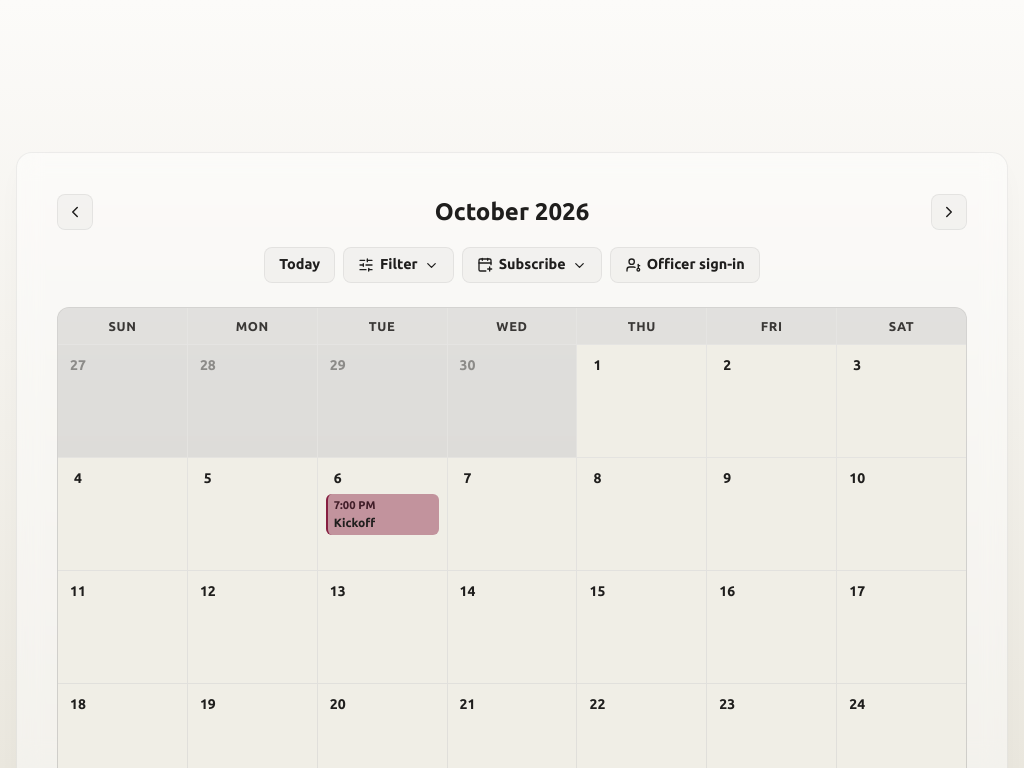
Test case: Calendar page › omits the repeat line for a one-off event
This screenshot has width=1024, height=768.
What coordinates should you click on to do the following:
click the button "7:00 PM Kickoff"
I would click on:
 (382, 515)
Its box is [326,494,439,535].
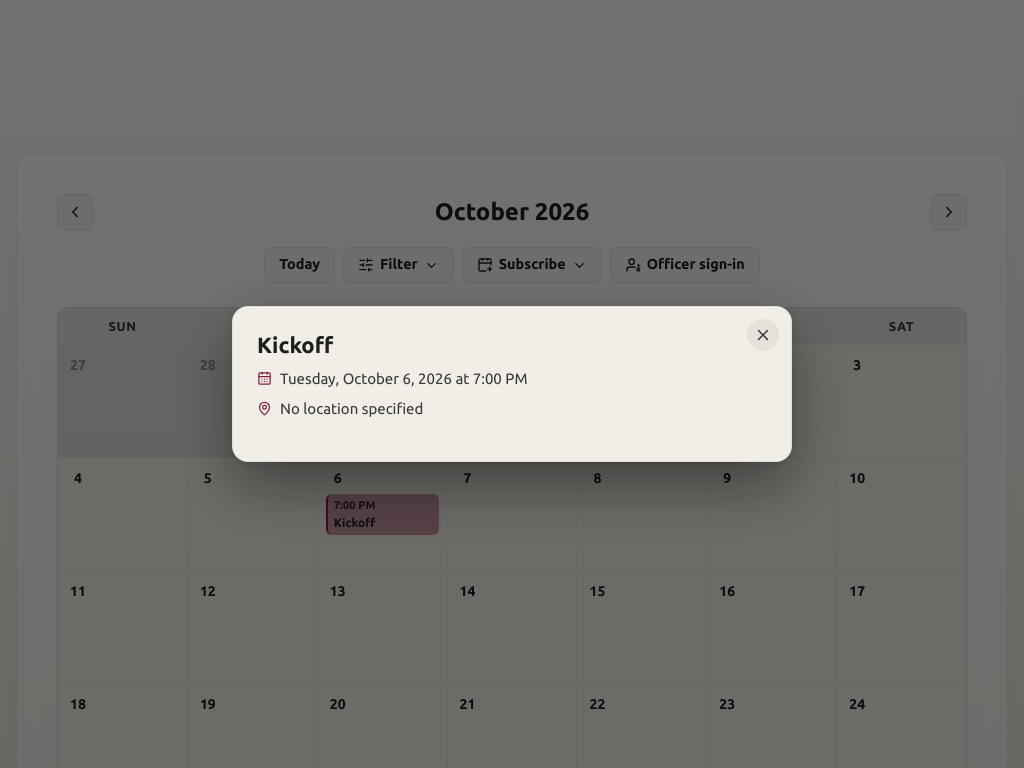
expect the text "Tuesday, October 6, 2026 at 7:00 PM" is shown 2 times: met, box [257,370,528,387]; [257,400,423,417]
